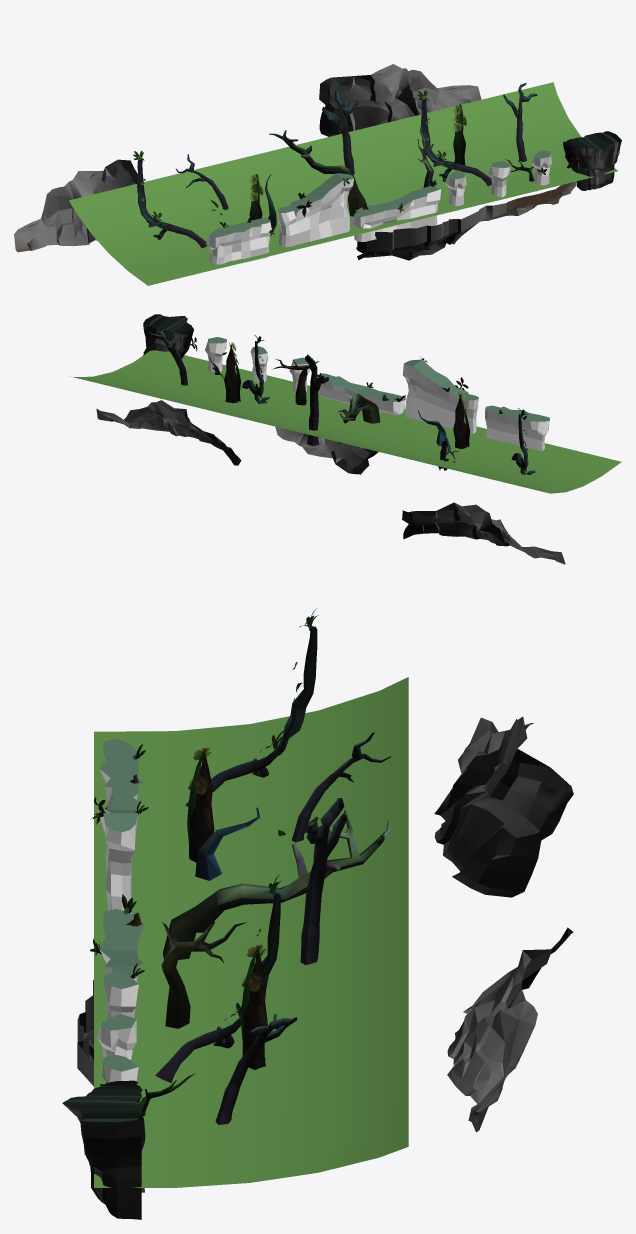
File: deco01.FBX
3 renders of one model, top to bottom at view 1: azimuth 30°, elevation 25°; view 2: azimuth 150°, elevation 25°; view 3: azimuth 270°, elevation 25°, orthographic. The views are drawn at different scales.
Visible parts, largest first — view 1: Plane01, StoneWall03, StoneWall, StoneWall02, colision02, colision00, colision06, colision01, trees03, trees09, trees07, trees06 (+7 smaller); view 2: Plane01, StoneWall, colision02, StoneWall03, colision01, StoneWall02, colision00, colision06, trees07, Plants01, trees03, Plants14 (+6 smaller); view 3: Plane01, StoneWall, StoneWall03, colision06, trees03, colision02, trees07, trees09, trees05, colision00, trees06, Plants01 (+8 smaller).
Part boxes in pixels (box(x1,y1,x2,y2)): Plane01: box(69, 82, 617, 285); StoneWall03: box(319, 64, 481, 136); StoneWall: box(14, 159, 137, 252); StoneWall02: box(356, 181, 576, 260); colision02: box(277, 173, 353, 247); colision00: box(351, 186, 440, 241); colision06: box(563, 131, 621, 190); colision01: box(206, 218, 271, 267); trees03: box(269, 130, 365, 216); trees09: box(137, 158, 207, 247); trees07: box(322, 87, 358, 174); trees06: box(421, 99, 491, 186); Plane01: box(71, 350, 621, 493); StoneWall: box(402, 502, 565, 564); colision02: box(403, 359, 478, 433); StoneWall03: box(96, 400, 241, 465); colision01: box(485, 405, 549, 451); StoneWall02: box(275, 426, 378, 474); colision00: box(317, 373, 405, 415); colision06: box(143, 314, 193, 358); trees07: box(305, 354, 328, 445); Plants01: box(224, 342, 240, 403); trees03: box(338, 394, 380, 423); Plants14: box(453, 392, 469, 448); Plane01: box(94, 677, 408, 1187); StoneWall: box(434, 716, 573, 897); StoneWall03: box(447, 927, 573, 1132); colision06: box(62, 1080, 145, 1219); trees03: box(163, 810, 389, 959); colision02: box(100, 795, 138, 913); trees07: box(300, 798, 347, 964); trees09: box(185, 626, 317, 806); trees05: box(161, 921, 247, 1028); colision00: box(99, 909, 144, 1014); trees06: box(155, 892, 280, 1082); Plants01: box(240, 944, 267, 1069).
Bounding box in the file's own units: 1257 × 518 × 321.
